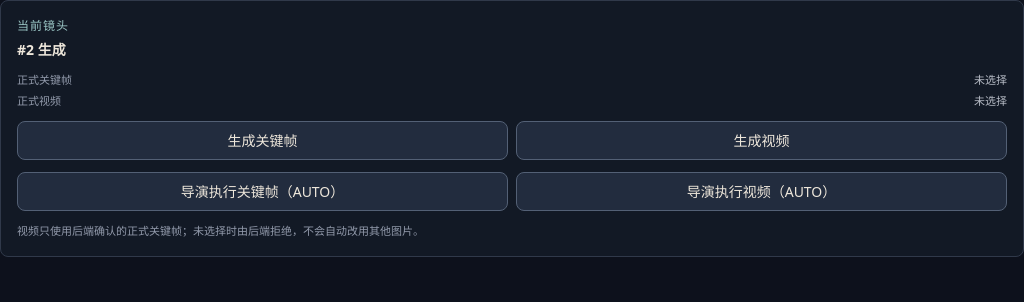
it: ShotProductionActions › sends video through the backend formal-keyframe gate and surfaces its error
Click the button "生成视频": (762,140) top-left (516, 121), bottom-right (1007, 160)
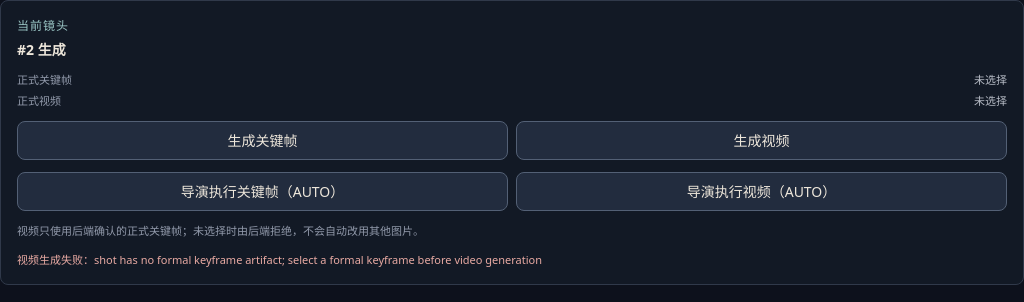
Check: the message with test id "shot-production-error" shows "shot has no formal keyframe artifact", box top-left (94, 252), bottom-right (542, 266)
